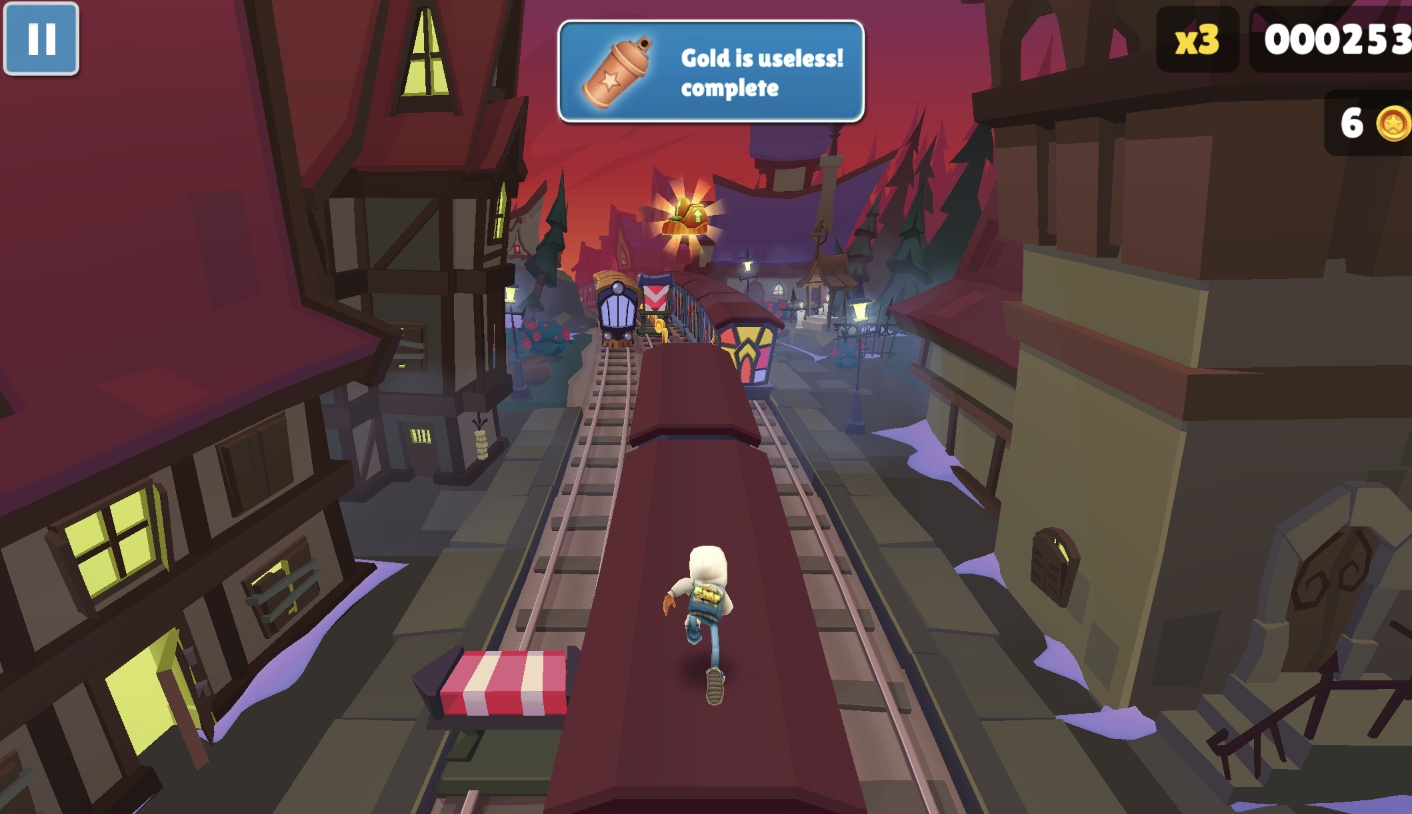ground_barrier: (411, 645, 582, 797)
overhead_barrier: (636, 273, 673, 330)
train: (546, 344, 867, 814), (669, 273, 785, 404), (590, 271, 641, 349)
